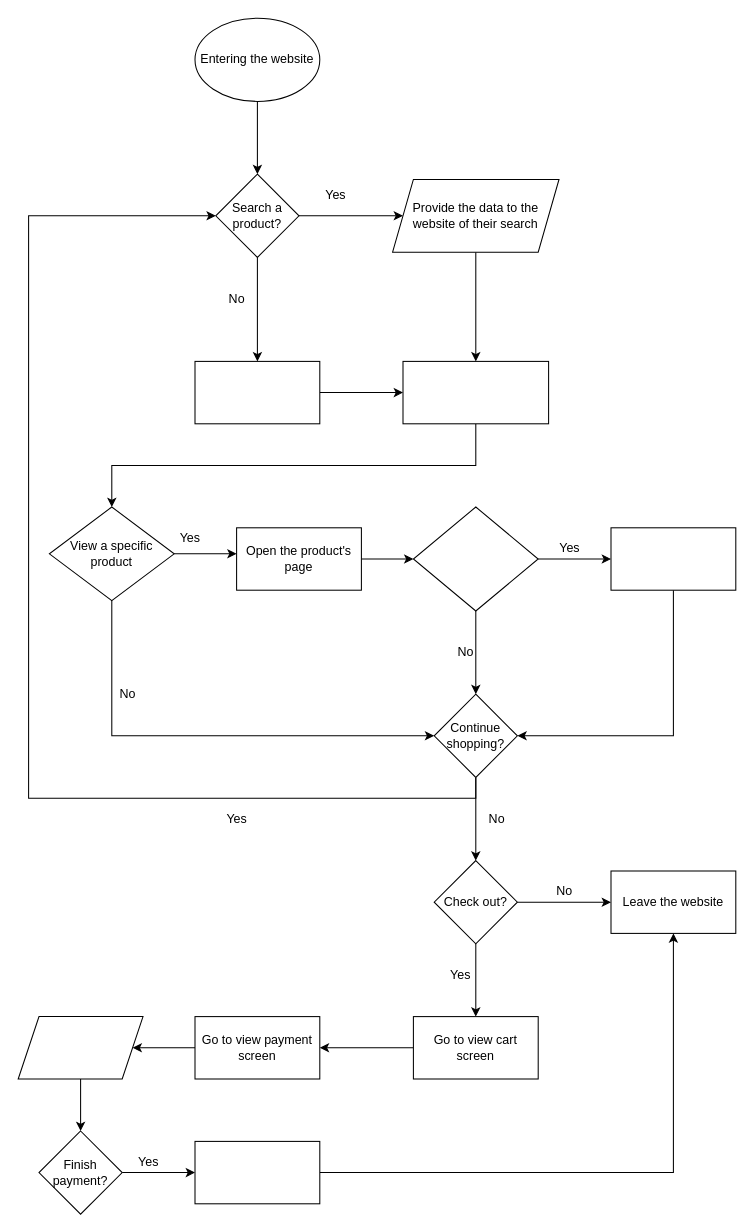
This 754x1232 diagram has some shape labels left out. The shapes that lost their labels are listed below. From the top down, each one's centre as x and y in pixels, then its label:
point (257, 392): Stay on the home page
point (475, 392): Look over the products
point (475, 558): Add to shopping cart
point (673, 558): Recieve a confirmation
point (80, 1047): Input payment information
point (257, 1172): Get a confirmation of the order and recieve an email
